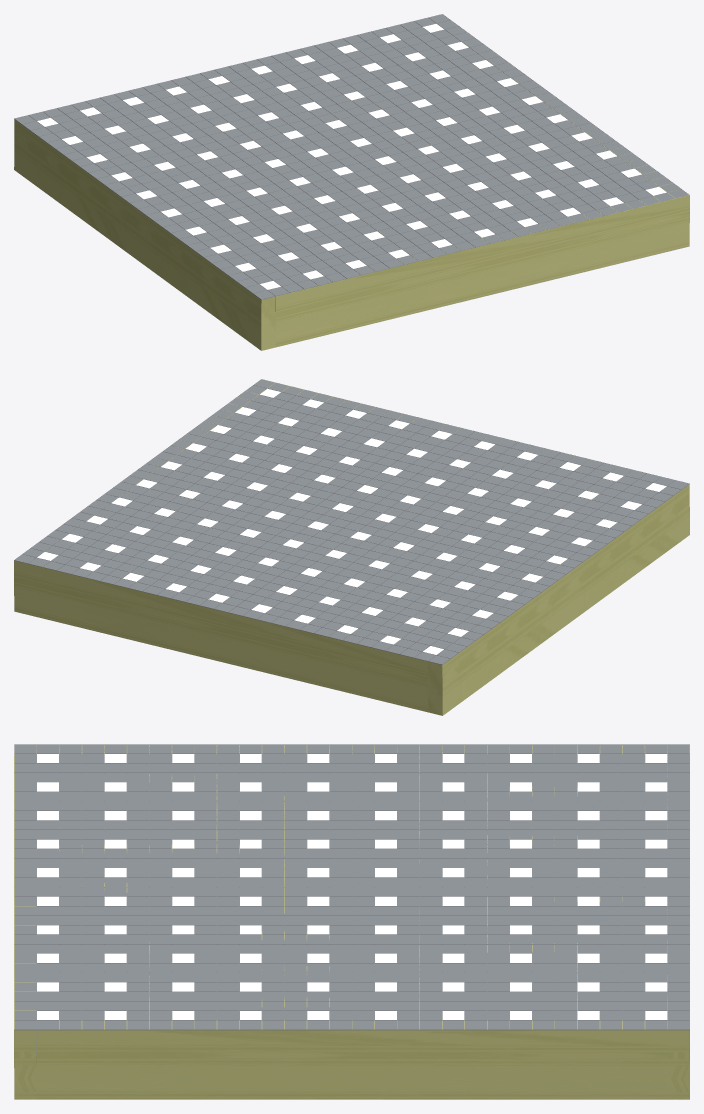
The model's file is backrooms.glb.
The picture shows the model from 3 angles, top to bottom: view 1: azimuth 30°, elevation 25°; view 2: azimuth 150°, elevation 25°; view 3: azimuth 270°, elevation 25°; orthographic projection. The views are drawn at different scales.
Parts seen in each view (by area): view 1: techo-col, pared_exterior.003-col, pared_exterior-col; view 2: techo-col, pared_exterior.001-col, pared_exterior-col; view 3: techo-col, pared_exterior.002-col, pared_exterior.003-col, pared_exterior.001-col.
Boxes of the visible parts, x1,y1,x2,y2 form: techo-col: [14, 14, 689, 299]; pared_exterior.003-col: [275, 193, 689, 347]; pared_exterior-col: [14, 119, 275, 350]; techo-col: [14, 379, 689, 664]; pared_exterior.001-col: [14, 560, 428, 712]; pared_exterior-col: [428, 484, 689, 715]; techo-col: [14, 744, 689, 1030]; pared_exterior.002-col: [36, 1020, 667, 1099]; pared_exterior.003-col: [14, 754, 36, 1099]; pared_exterior.001-col: [667, 754, 689, 1099].
Size of the model in its own units: 20 by 2.29 by 20.01.
Materials: 3 (1 with a texture image).
